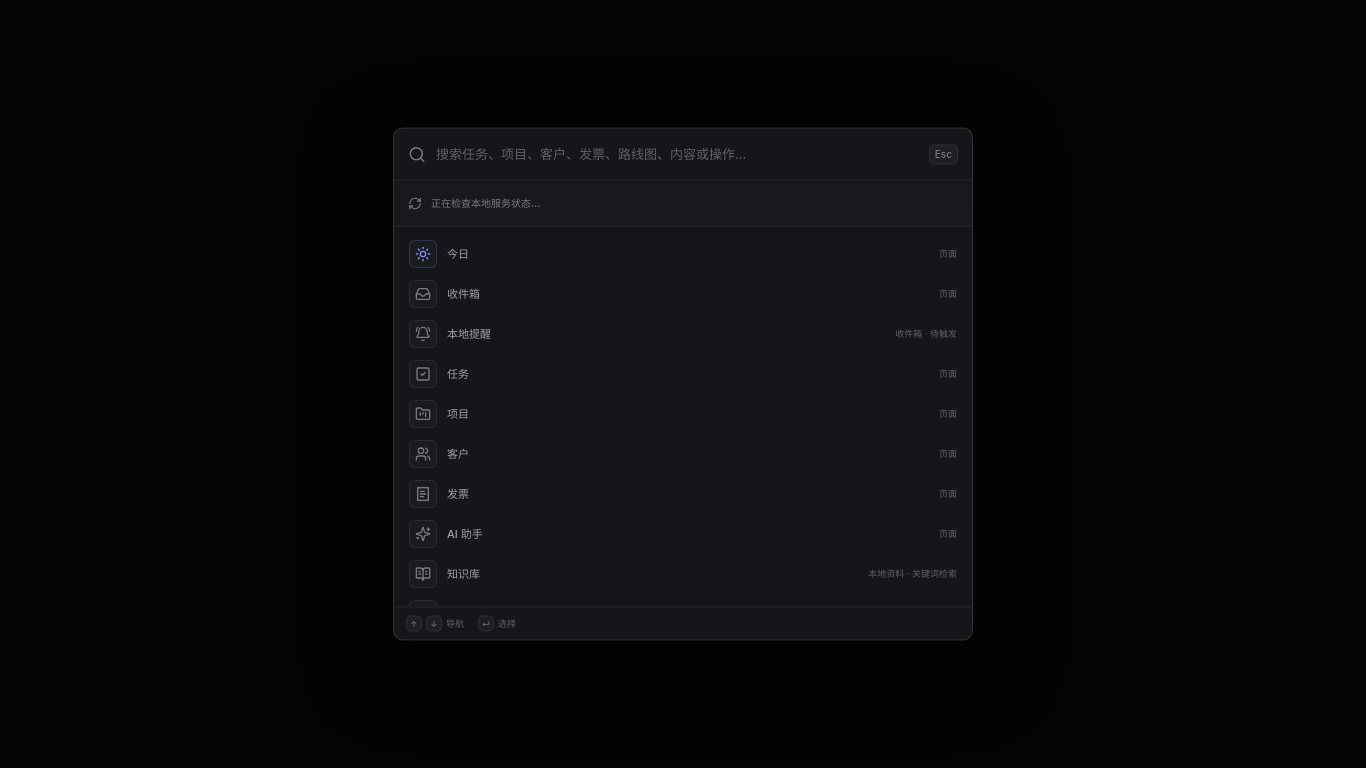
Scenario: CommandPalette › waits for initial health before searching and hides cached business results
Expected: the message shows "正在检查本地服务状态", [431,196,541,208]
Type "跨页" into the dropdown.
click(677, 154); type("跨页")  # box [436,144,919,164]
Wait 200 ms
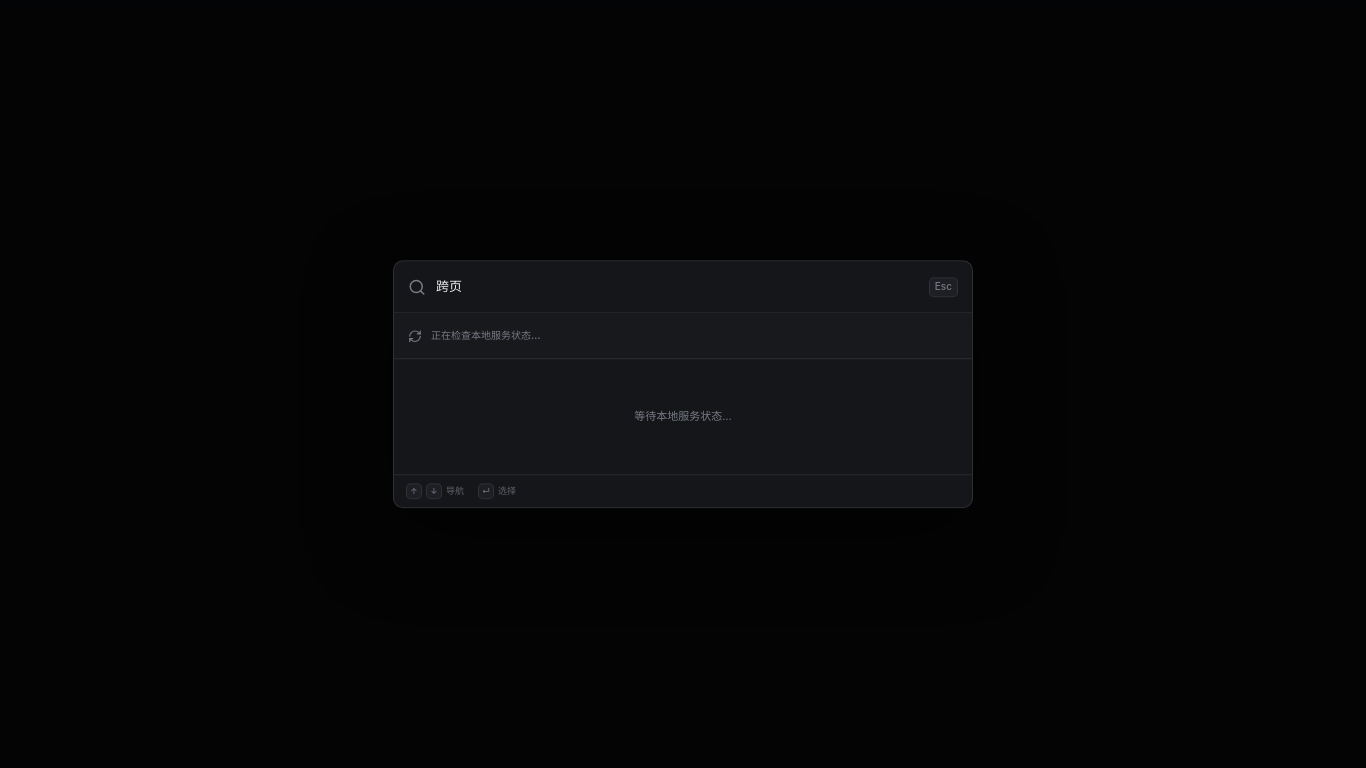
Result: the text "等待本地服务状态…" is shown at [634,409,732,423]
